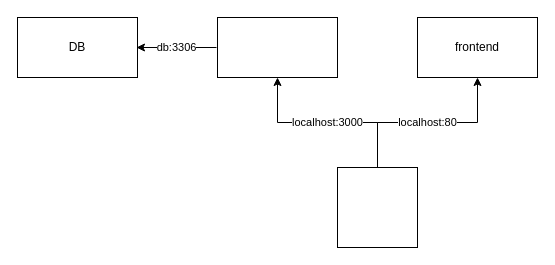
This 555x265 diagram has some shape labels left out. Here are the shapes that lost their labels. From the top down, the centre of each, then its label:
point 277,47: backend
point 377,207: browser
